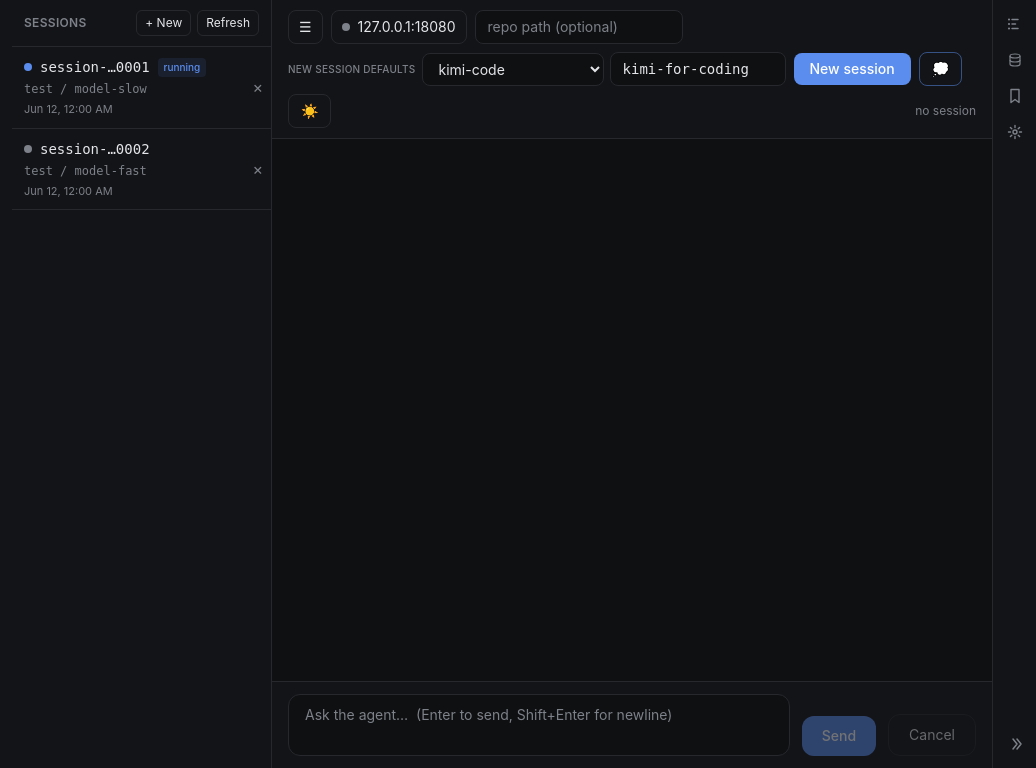
Test: App session switching › ignores stale session history loads after a newer selection wins
Click the button "session-…0001 running test / model-slow Jun 12, 12:00 AM".
click(128, 87)  # box [12,47,244,128]
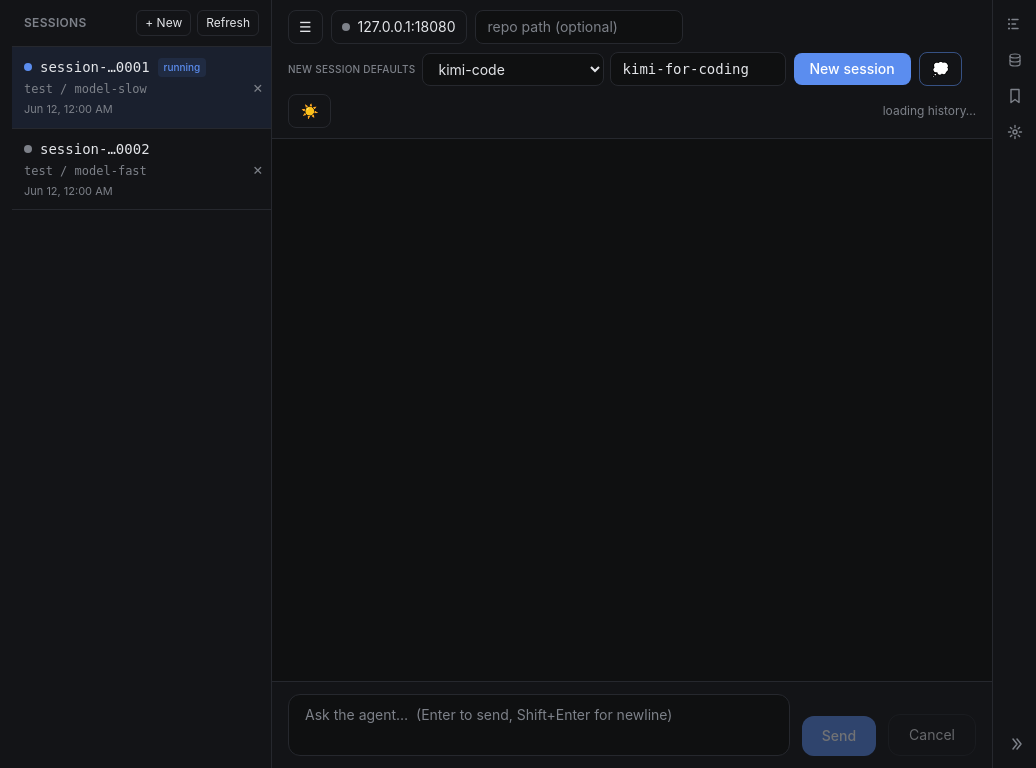
Click the button "session-…0002 test / model-fast Jun 12, 12:00 AM".
click(128, 169)  # box [12,128,244,209]
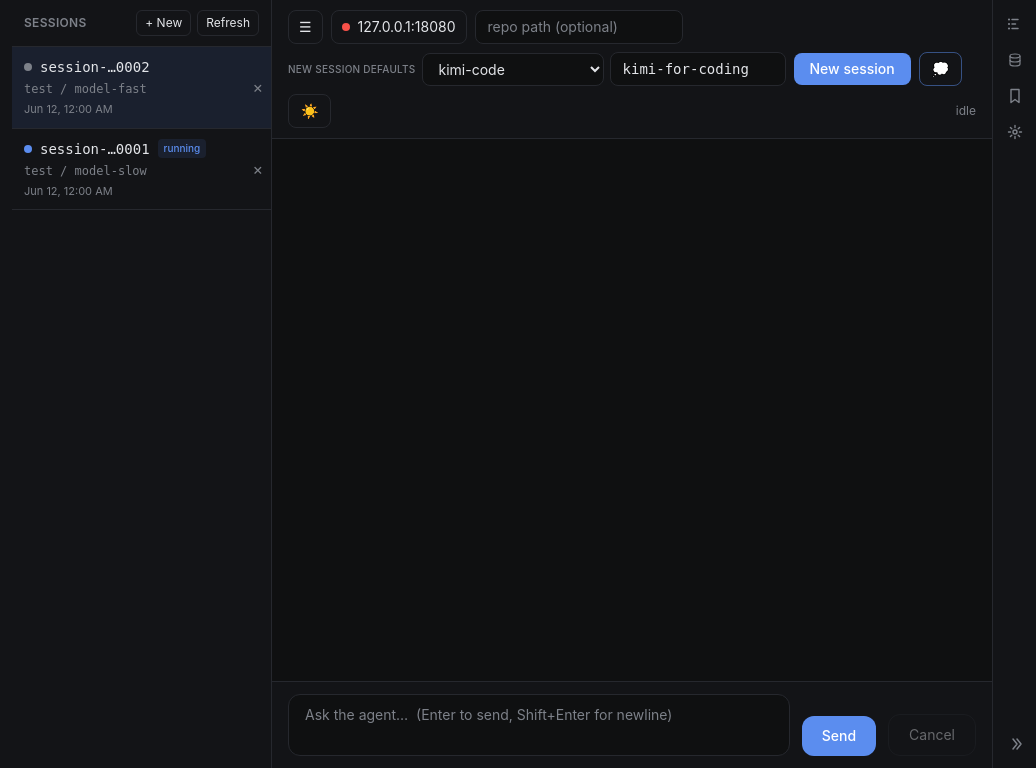
Check: the text "idle" is shown, box [956,103,976,119]
